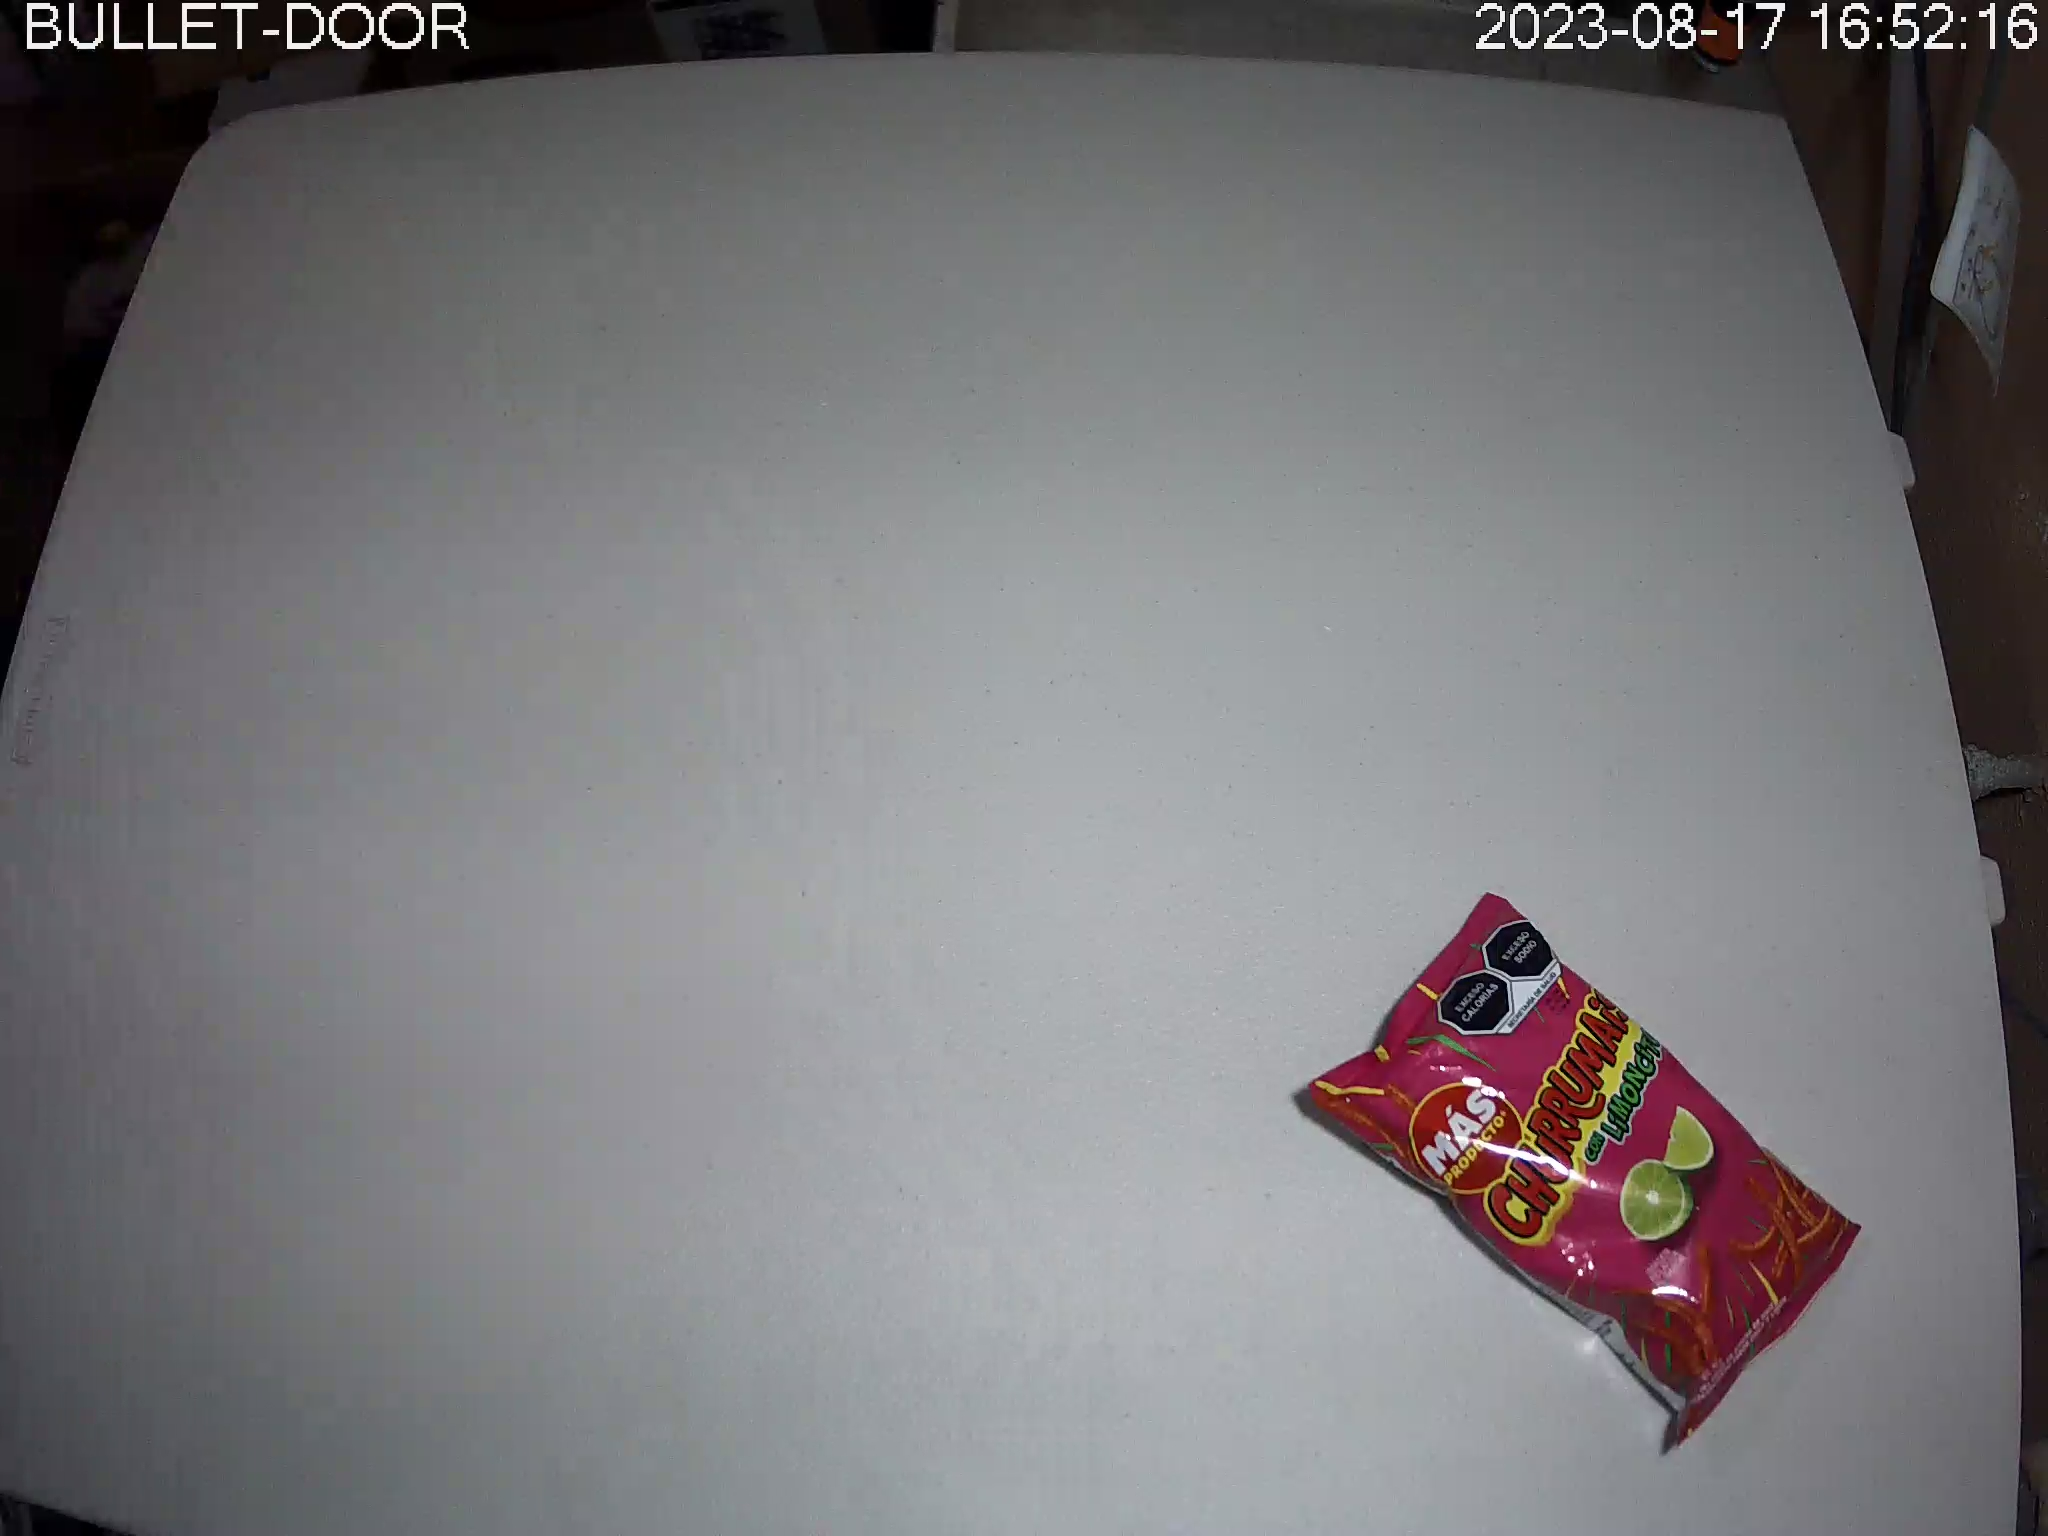Churrumais_70_F: (1308, 891, 1866, 1447)
